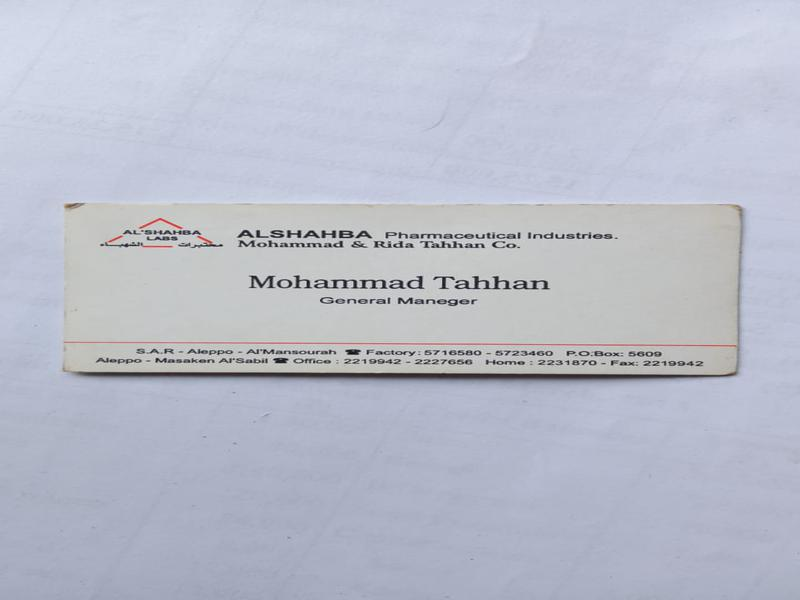card: (56, 195, 746, 384)
